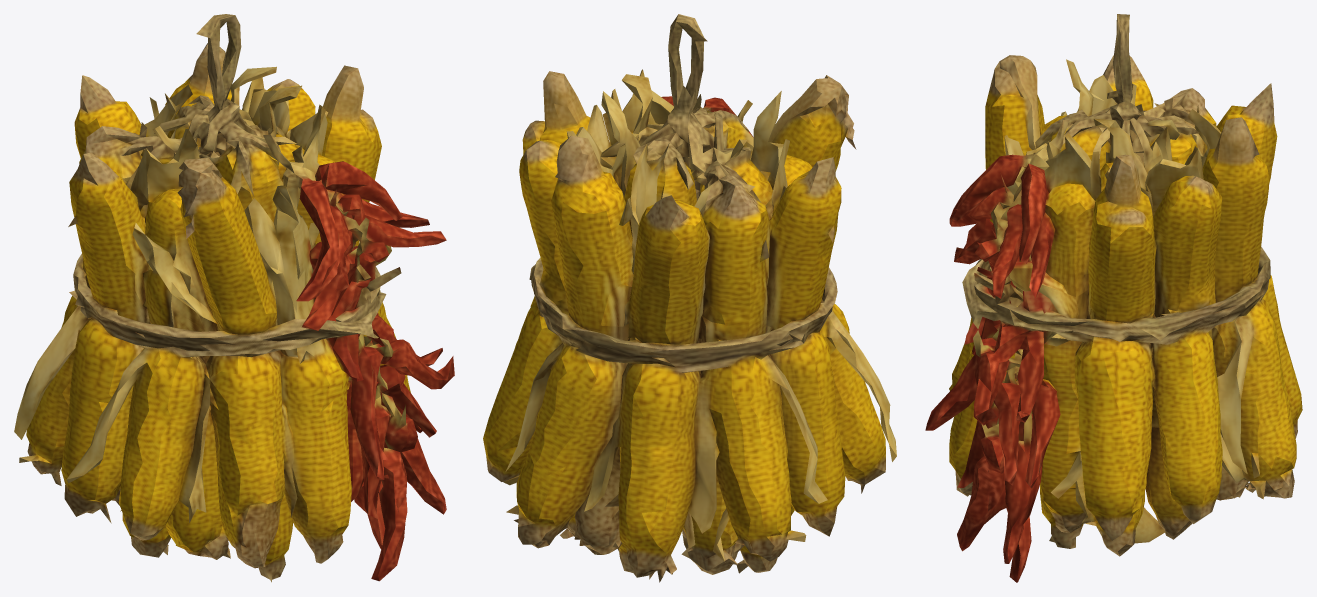
File: hang_decor.glb
3 renders of one model, left to right at view 1: azimuth 30°, elevation 25°; view 2: azimuth 150°, elevation 25°; view 3: azimuth 270°, elevation 25°, orthographic. The views are drawn at different scales.
Visible parts, largest first — view 1: world; view 2: world; view 3: world.
Part boxes in pixels (left/top/right/bottom): world: left=14, top=14, right=454, bottom=582; world: left=483, top=14, right=896, bottom=582; world: left=925, top=14, right=1302, bottom=582.
Size of the model in its own units: 0.45 by 0.6438 by 0.4227.
1 material, 1 textured.
